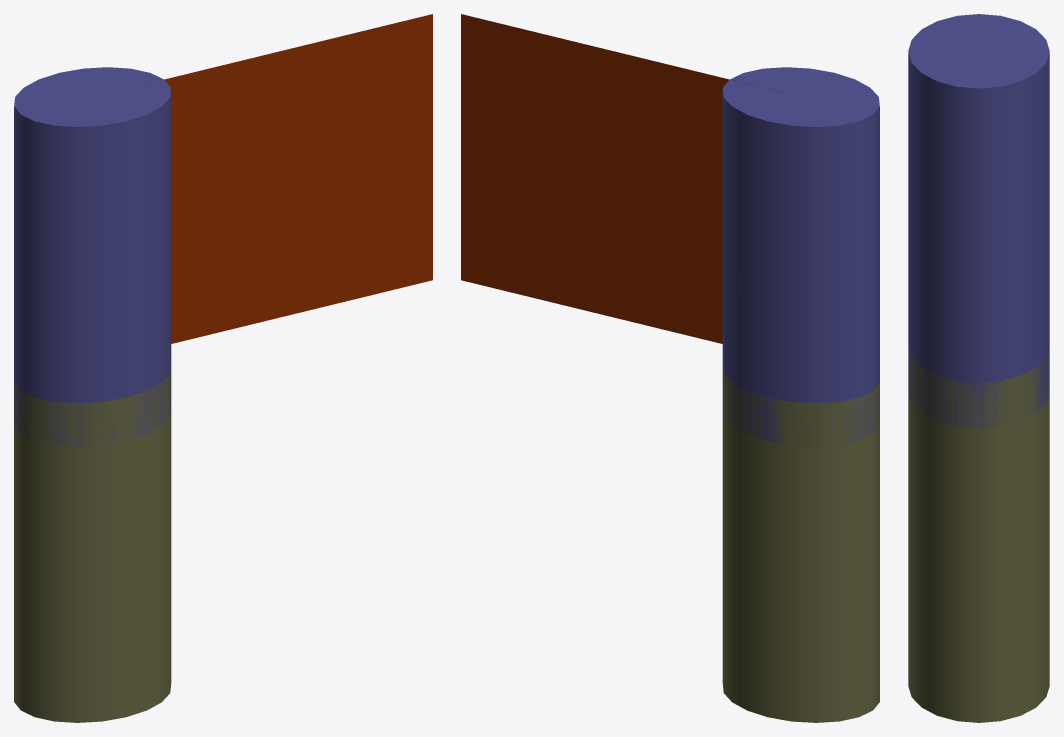
The model's file is flag.fbx.
3 renders of one model, left to right at view 1: azimuth 30°, elevation 25°; view 2: azimuth 150°, elevation 25°; view 3: azimuth 270°, elevation 25°, orthographic. The views are drawn at different scales.
Visible parts, largest first — view 1: pCylinder3; view 2: pCylinder3; view 3: pCylinder3.
Boxes of the visible parts, x1,y1,x2,y2 form: pCylinder3: (14,14,432,722); pCylinder3: (461,14,879,722); pCylinder3: (908,14,1049,722).
Size of the model in its own units: 0.3244 by 0.4484 by 0.0907.
